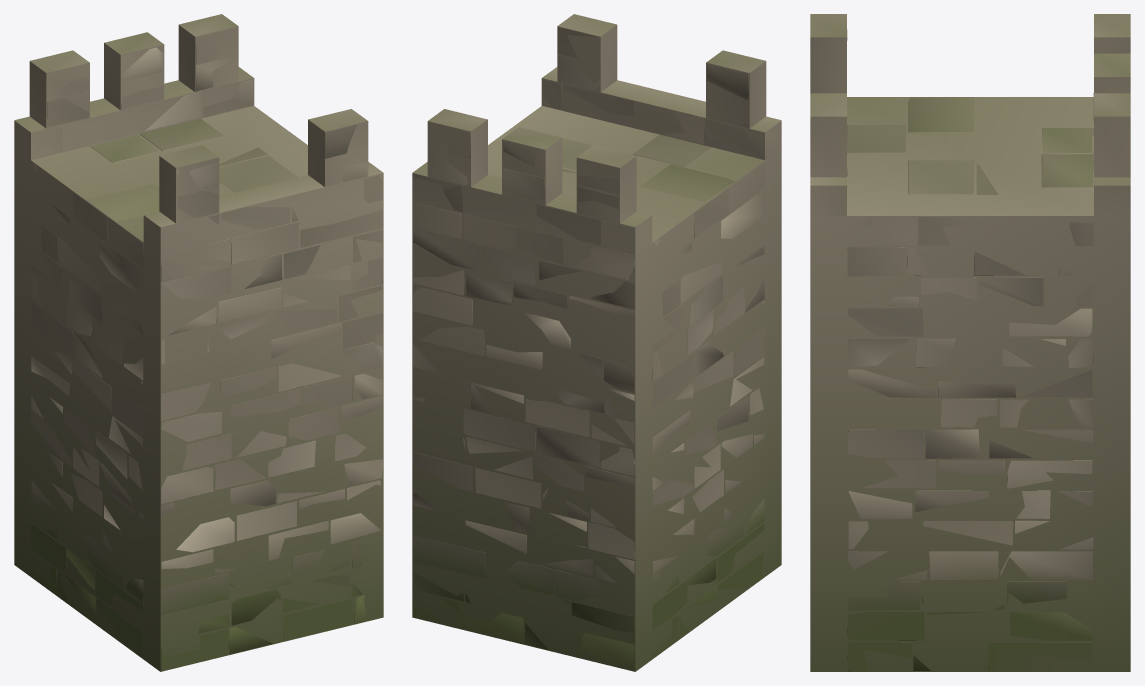
The model's file is citadel_wall.glb.
3 views of the same model, side by side, from view 1: azimuth 30°, elevation 25°; view 2: azimuth 150°, elevation 25°; view 3: azimuth 270°, elevation 25° (orthographic). The views are drawn at different scales.
Visible parts, largest first — view 1: citadel_wall_far, citadel_wall; view 2: citadel_wall_far, citadel_wall; view 3: citadel_wall_far, citadel_wall.
Part boxes in pixels (x1,y1,x2,y2): citadel_wall_far: (14,14,383,671); citadel_wall: (31,27,382,670); citadel_wall_far: (412,14,781,671); citadel_wall: (412,27,764,670); citadel_wall_far: (810,14,1130,671); citadel_wall: (847,29,1093,671).
Size of the model in its own units: 18.52 by 39.6 by 21.02.
